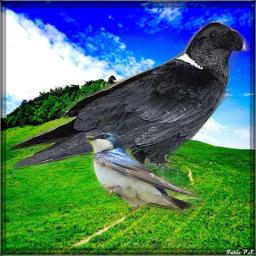Crow: (2, 21, 252, 199)
Swallow: (86, 132, 203, 219)
